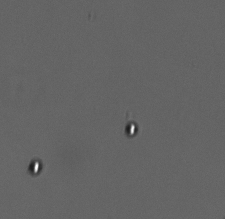Living Cell: (27, 157, 43, 177), (122, 120, 139, 138)
